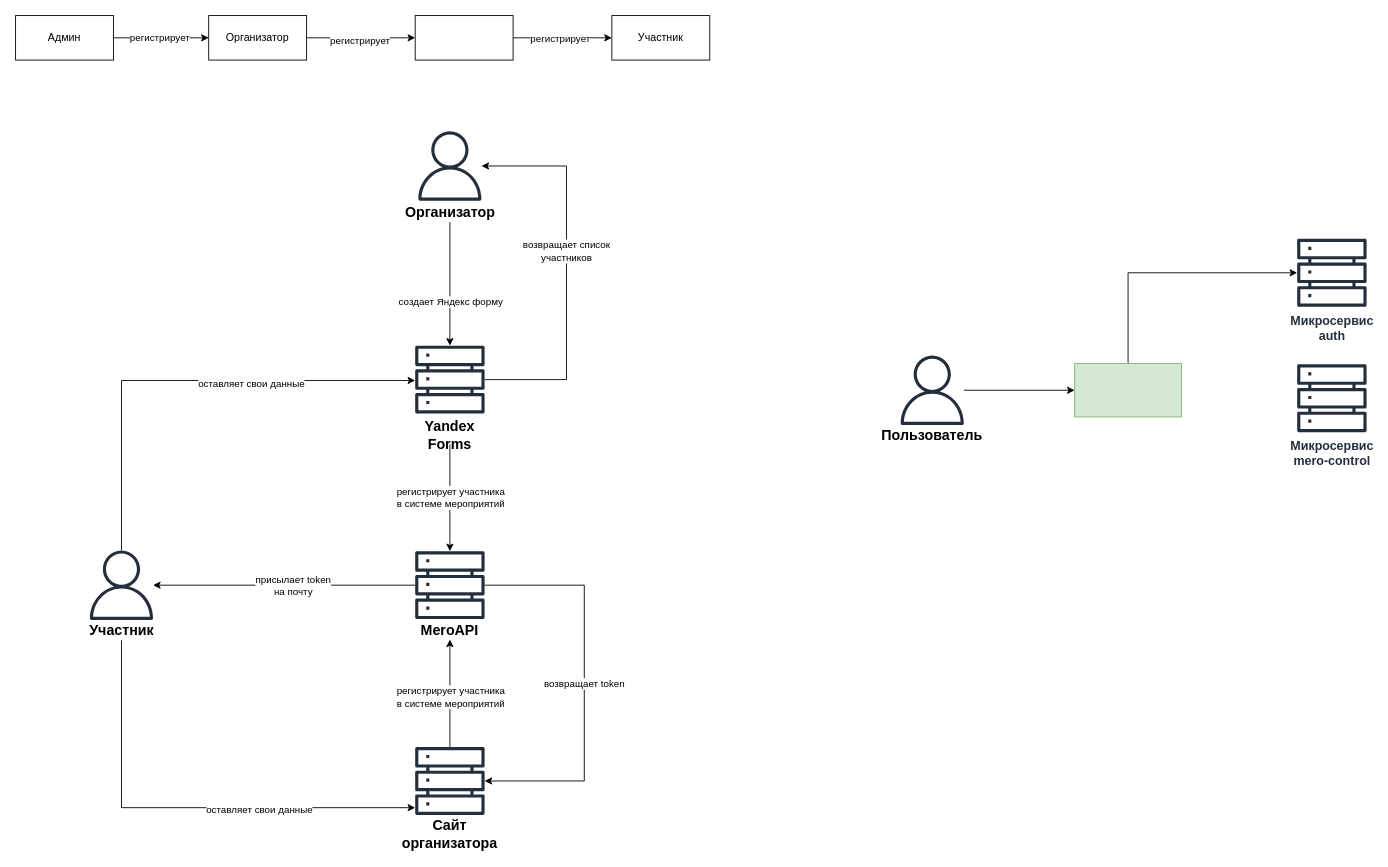
The diagram is 1388 pixels wide and 867 high, and some of its shapes have lost their labels. The box of each missing label's shape, as (x1, y1, x2, y2) in pixels:
NGINX: (1074, 363, 1181, 417)
Партнер: (414, 15, 513, 60)
